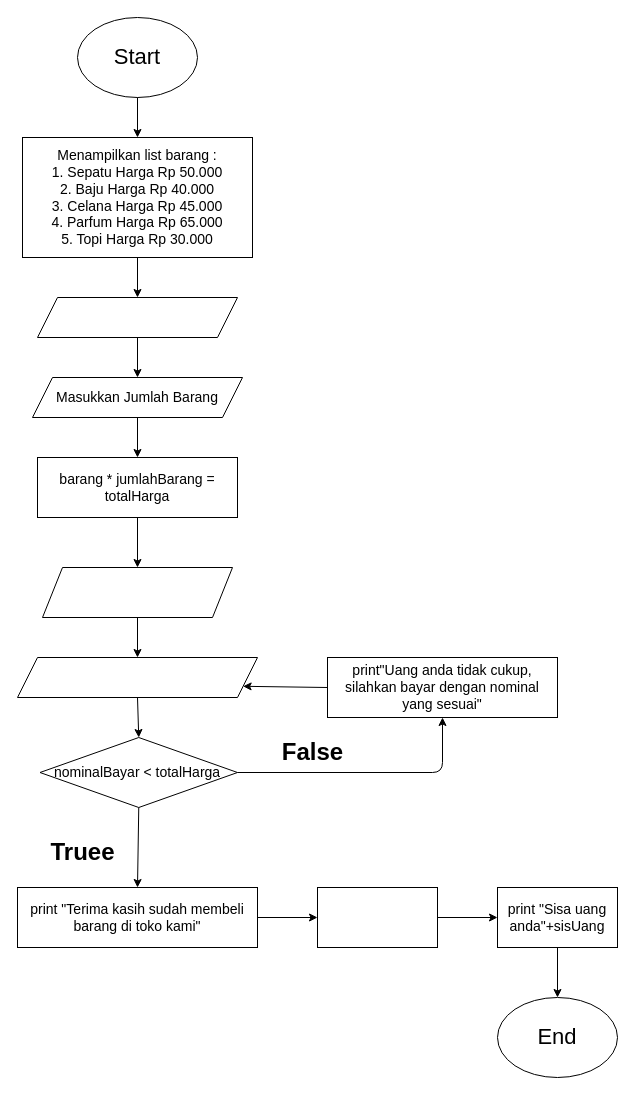
The diagram is 635 pixels wide and 1095 high, and some of its shapes have lost their labels. The box of each missing label's shape, as (x1, y1, x2, y2) in pixels:
Masukkan Barang: (36, 296, 238, 338)
Masukkan Nominal Bayar: (16, 656, 258, 698)
sisaUang = nominalBayar - totalHarga: (316, 886, 438, 948)
Total Harga Barang: (42, 566, 232, 618)
